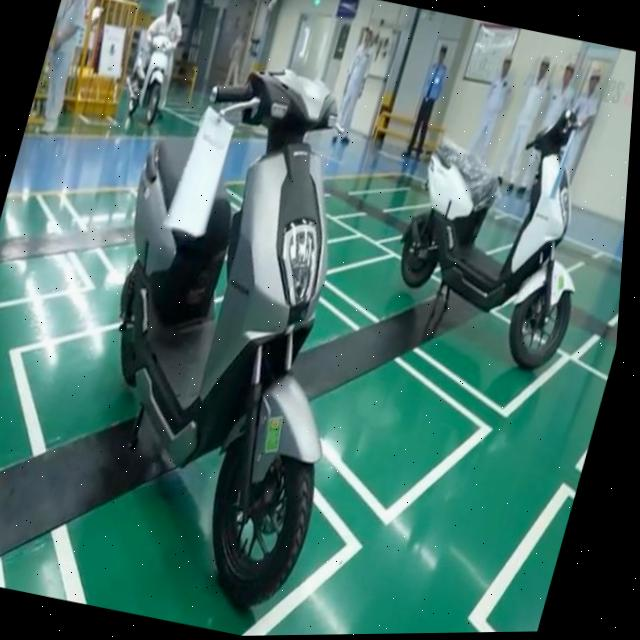motorcycle: (21, 37, 445, 627), (362, 80, 634, 384), (113, 32, 183, 135)
